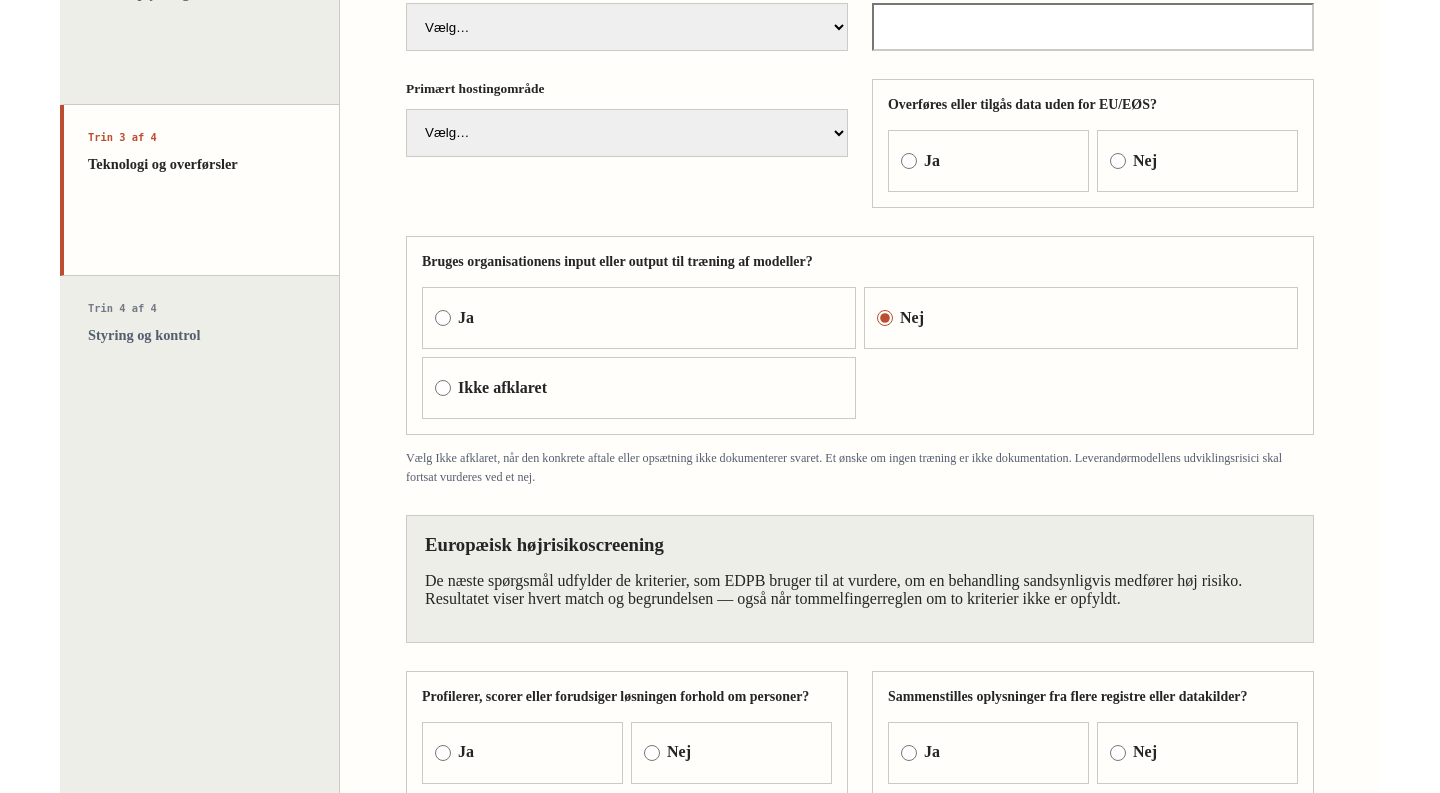
Test: modeltræning kan ændres fra nej til ikke afklaret og bevares som null i kladden
(page scrolled)
Expected: the 2nd radio button labelled "Nej" is checked, [877,310,893,326]
Click the radio button labelled "Ikke afklaret". click: (443,388)
box: [435,380,451,396]
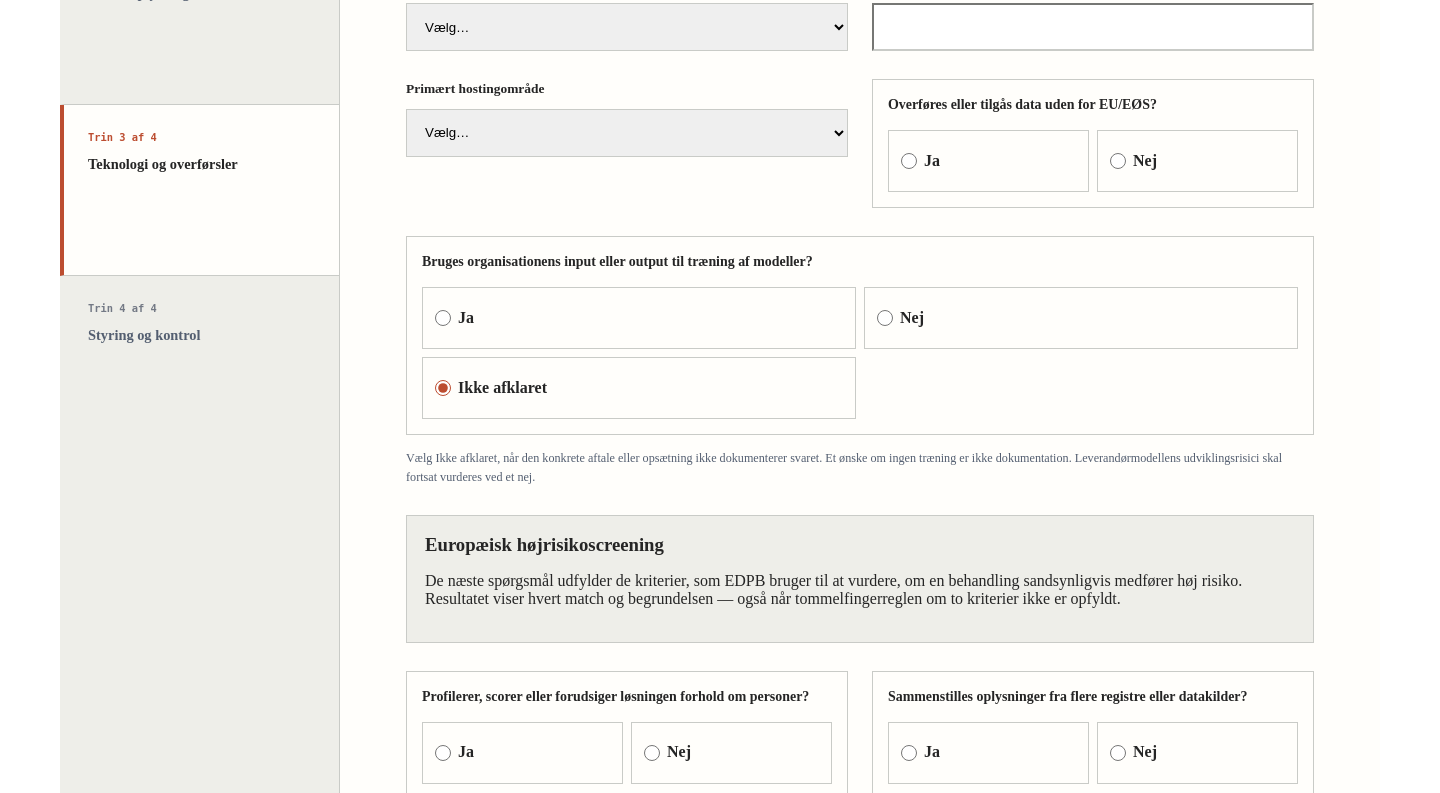
Expected: the radio button labelled "Ikke afklaret" is checked, [435,380,451,396]
Expected: the 2nd radio button labelled "Nej" is not checked, [877,310,893,326]
